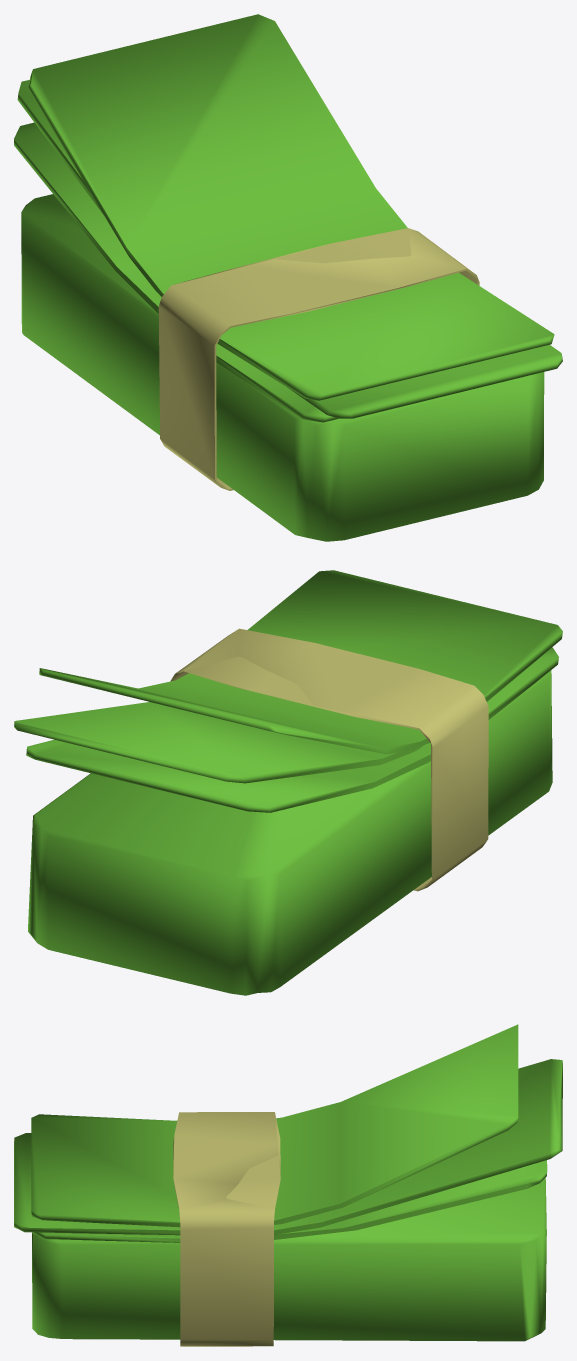
The model's file is para2_1.fbx.
3 renders of one model, top to bottom at view 1: azimuth 30°, elevation 25°; view 2: azimuth 150°, elevation 25°; view 3: azimuth 270°, elevation 25°, orthographic. The views are drawn at different scales.
Visible parts, largest first — view 1: Plane.004, Plane, Plane.005, Plane.002, Plane.003; view 2: Plane, Plane.004, Plane.005, Plane.003, Plane.002; view 3: Plane, Plane.004, Plane.005, Plane.003, Plane.002.
Part boxes in pixels (x1=…): Plane.004: x1=28, y1=14, x2=554, y2=400; Plane: x1=21, y1=194, x2=544, y2=541; Plane.005: x1=158, y1=228, x2=479, y2=490; Plane.002: x1=14, y1=122, x2=338, y2=422; Plane.003: x1=17, y1=80, x2=562, y2=418; Plane: x1=28, y1=670, x2=552, y2=995; Plane.004: x1=39, y1=570, x2=562, y2=754; Plane.005: x1=170, y1=628, x2=488, y2=891; Plane.003: x1=14, y1=702, x2=423, y2=783; Plane.002: x1=26, y1=647, x2=558, y2=812; Plane: x1=32, y1=1178, x2=546, y2=1341; Plane.004: x1=31, y1=1024, x2=518, y2=1227; Plane.005: x1=173, y1=1112, x2=280, y2=1346; Plane.003: x1=14, y1=1059, x2=562, y2=1235; Plane.002: x1=32, y1=1160, x2=547, y2=1242.
Bounding box in the file's own units: 349 × 344 × 748.
